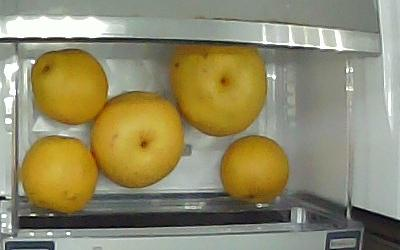pear: (170, 43, 269, 138), (93, 91, 185, 190), (21, 136, 99, 213), (31, 49, 109, 124), (219, 134, 290, 205)
